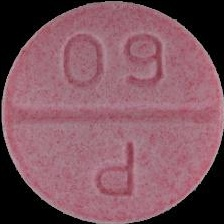42254-005: (0, 0, 224, 224)
